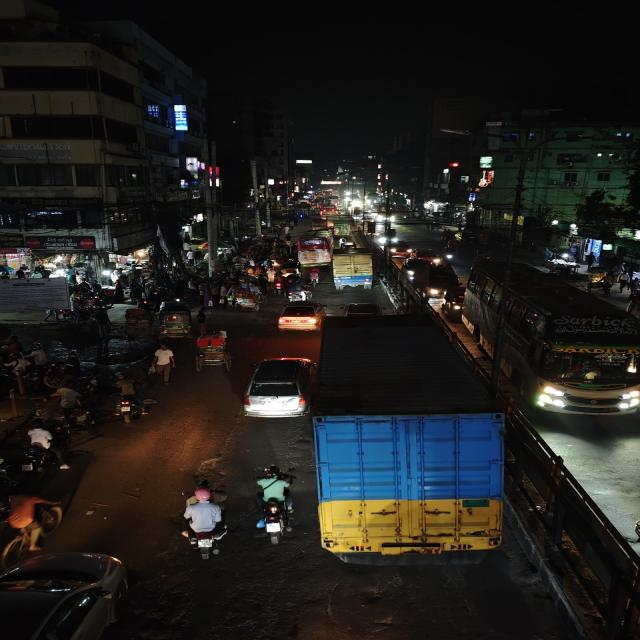bicycle: (2, 491, 69, 562), (305, 267, 321, 289)
bus: (462, 258, 640, 421), (294, 232, 334, 266)
car: (0, 547, 135, 639), (240, 353, 314, 419), (275, 299, 330, 332), (423, 274, 462, 298), (398, 257, 429, 281), (342, 300, 382, 316), (412, 247, 444, 266), (386, 240, 414, 258)
cng: (154, 300, 194, 340), (340, 234, 358, 250)
motorcycle: (175, 486, 230, 560), (107, 376, 161, 425), (19, 423, 61, 477), (255, 494, 295, 546), (251, 463, 298, 505), (284, 282, 314, 302), (271, 274, 286, 296)
pedestrian: (146, 343, 176, 381)
rickshaw: (108, 375, 162, 425), (190, 328, 237, 372), (231, 287, 266, 313)
truck: (310, 326, 506, 570), (329, 250, 376, 292)
